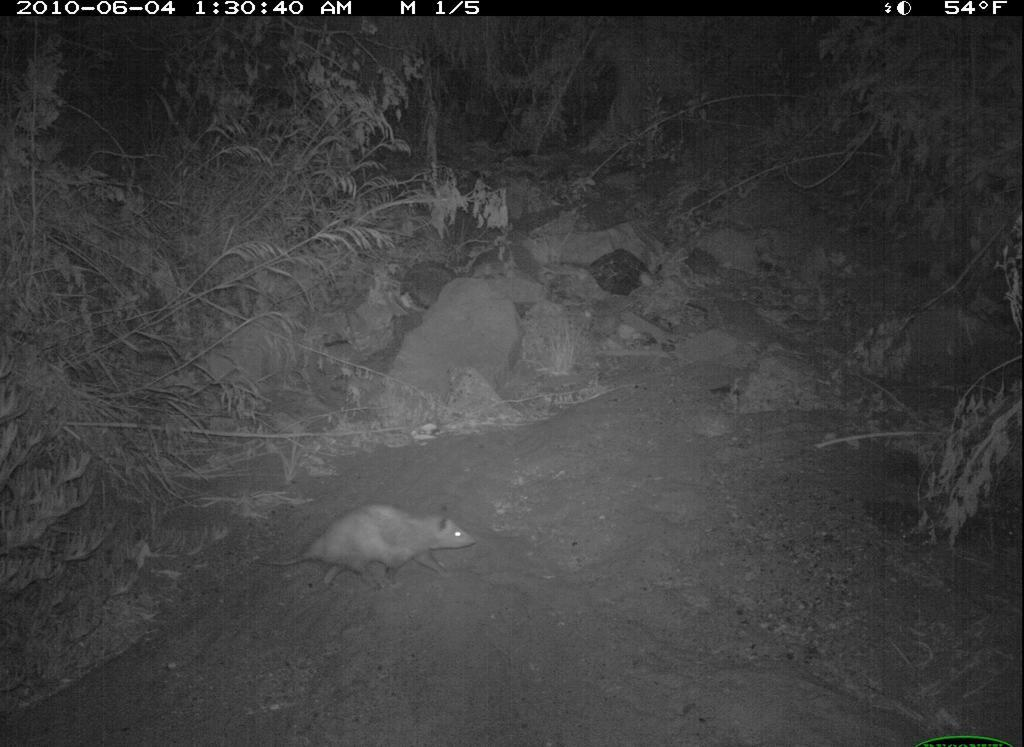opossum: (255, 495, 492, 596)
